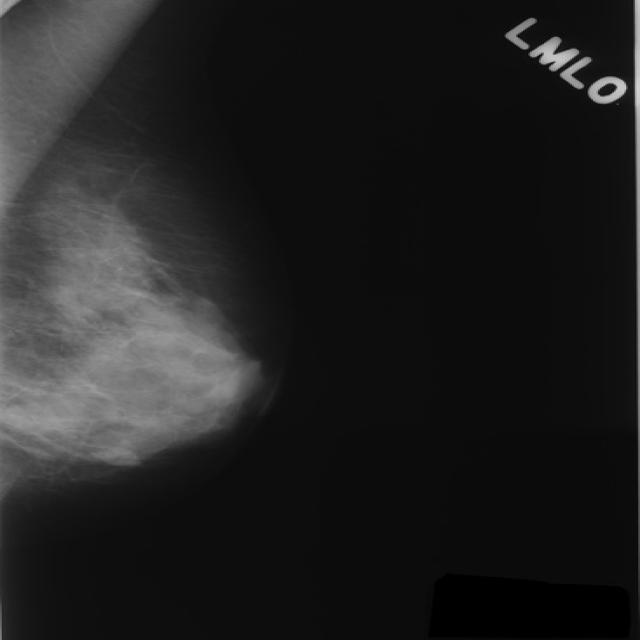tumour: (87, 444, 138, 465)
